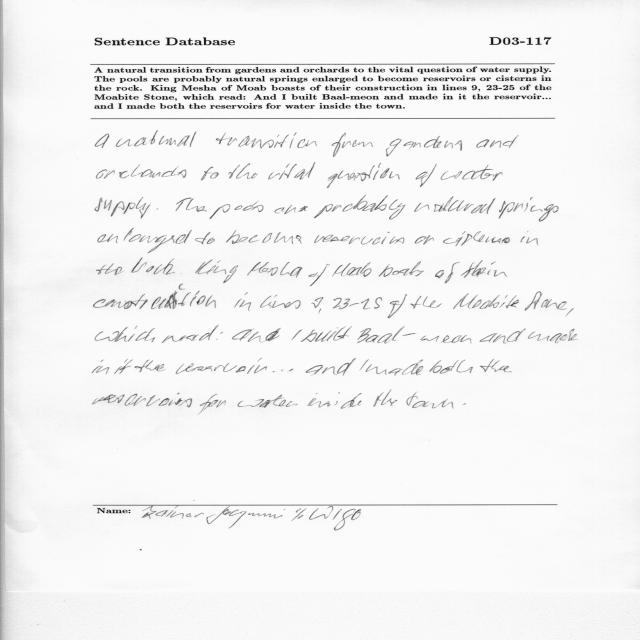word: (98, 229, 192, 254), (314, 195, 406, 220), (93, 291, 216, 309), (357, 326, 471, 344), (326, 163, 400, 188), (216, 132, 317, 149), (386, 136, 462, 157), (93, 393, 192, 408), (414, 196, 496, 214), (176, 358, 267, 374), (499, 197, 559, 221), (97, 164, 187, 179), (116, 131, 196, 147), (95, 197, 151, 219), (314, 232, 404, 244), (195, 260, 238, 284), (332, 133, 374, 157), (443, 231, 510, 246), (453, 294, 519, 309), (226, 231, 302, 244), (441, 165, 502, 181), (210, 201, 264, 219), (162, 326, 219, 343), (95, 326, 155, 342), (308, 392, 362, 409), (366, 360, 423, 376), (306, 358, 356, 376), (247, 262, 303, 278), (525, 291, 567, 311), (461, 260, 507, 278), (301, 326, 352, 342), (269, 163, 316, 180), (238, 395, 298, 408), (407, 393, 454, 409), (131, 258, 175, 275), (378, 261, 424, 277), (479, 329, 526, 344), (528, 329, 578, 343), (232, 328, 281, 342), (429, 360, 473, 374), (260, 294, 301, 309), (333, 298, 382, 310), (333, 262, 372, 277), (476, 135, 519, 148), (435, 262, 460, 283), (199, 394, 226, 413), (308, 264, 330, 286), (416, 164, 437, 187), (388, 295, 408, 319), (229, 163, 258, 179), (176, 198, 207, 212), (480, 359, 512, 372), (374, 390, 398, 407), (411, 296, 442, 309), (135, 360, 166, 373), (234, 292, 251, 311), (97, 264, 123, 276), (274, 205, 308, 214), (114, 359, 133, 374), (92, 360, 110, 375), (201, 167, 219, 181), (521, 231, 539, 245), (195, 232, 215, 244), (96, 134, 110, 148), (415, 235, 434, 245), (311, 297, 323, 308), (291, 330, 302, 341), (359, 359, 369, 371), (273, 369, 293, 373), (565, 308, 574, 316), (216, 332, 223, 340), (179, 284, 185, 290), (318, 309, 321, 314), (462, 403, 466, 405), (157, 208, 158, 210)
